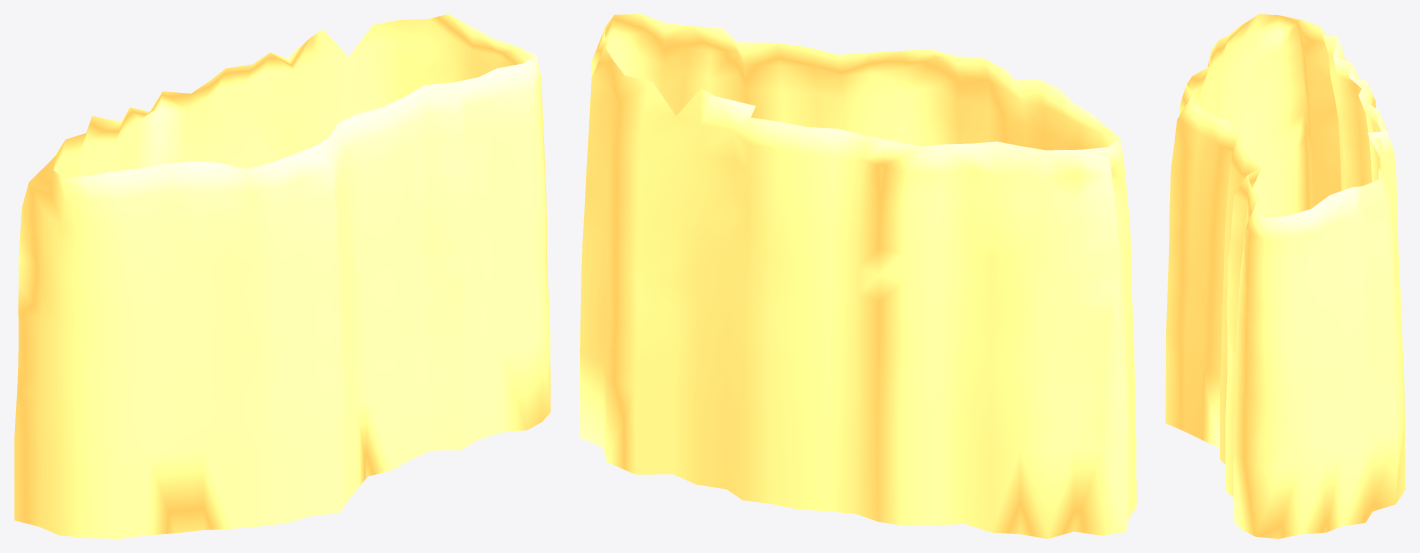
Rendered from barracks_hover.glb.
The picture shows the model from 3 angles, left to right: view 1: azimuth 30°, elevation 25°; view 2: azimuth 150°, elevation 25°; view 3: azimuth 270°, elevation 25°; orthographic projection. The views are drawn at different scales.
Visible parts, largest first — view 1: barracks._hover; view 2: barracks._hover; view 3: barracks._hover.
Boxes of the visible parts, x1,y1,x2,y2 form: barracks._hover: (14, 14, 550, 538); barracks._hover: (579, 14, 1136, 538); barracks._hover: (1165, 14, 1405, 538).
Size of the model in its own units: 2.81 by 1.92 by 1.27.
